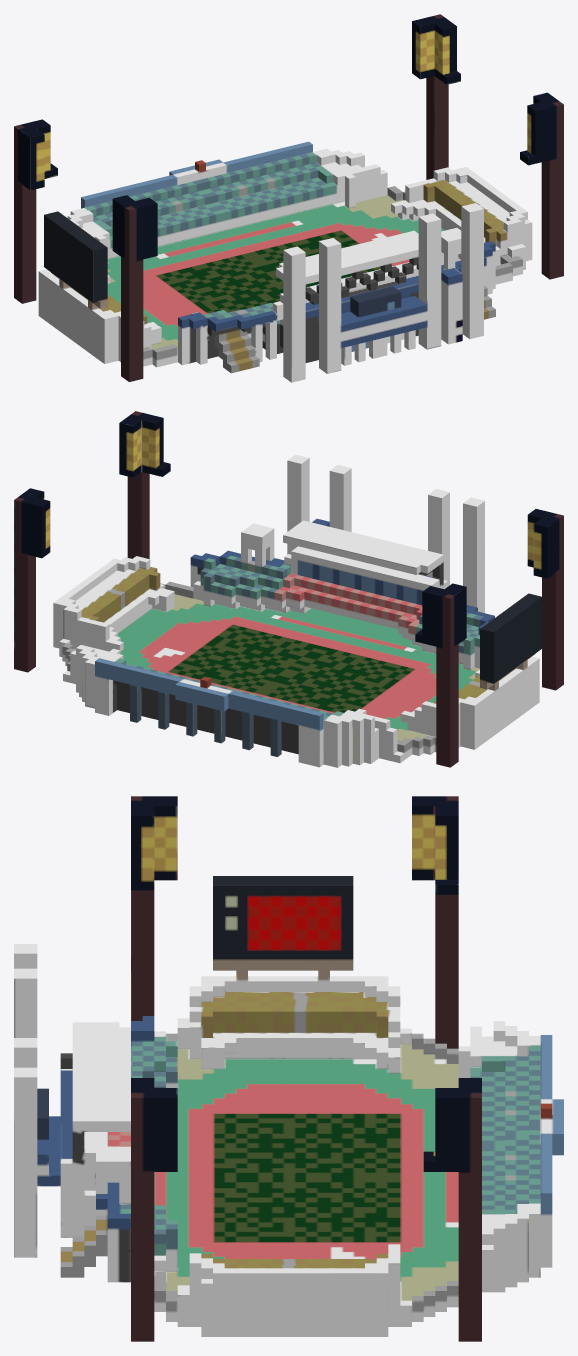
File: rikuzyoukyougijyou.glb
The picture shows the model from 3 angles, top to bottom: view 1: azimuth 30°, elevation 25°; view 2: azimuth 150°, elevation 25°; view 3: azimuth 270°, elevation 25°; orthographic projection. The views are drawn at different scales.
Parts seen in each view (by area): view 1: rikuzyoukyougijyou; view 2: rikuzyoukyougijyou; view 3: rikuzyoukyougijyou.
Boxes of the visible parts, box(x1,y1,x2,y2) form: rikuzyoukyougijyou: box(14, 14, 563, 382); rikuzyoukyougijyou: box(14, 411, 563, 767); rikuzyoukyougijyou: box(14, 796, 563, 1341).
Size of the model in its own units: 1.24 by 0.46 by 0.94.
Materials: 1 (1 with a texture image).
